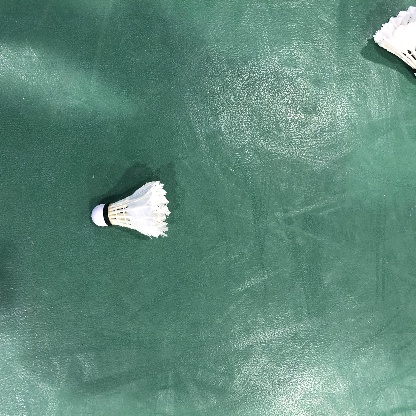ball_single: (92, 180, 171, 237), (373, 6, 416, 77)
